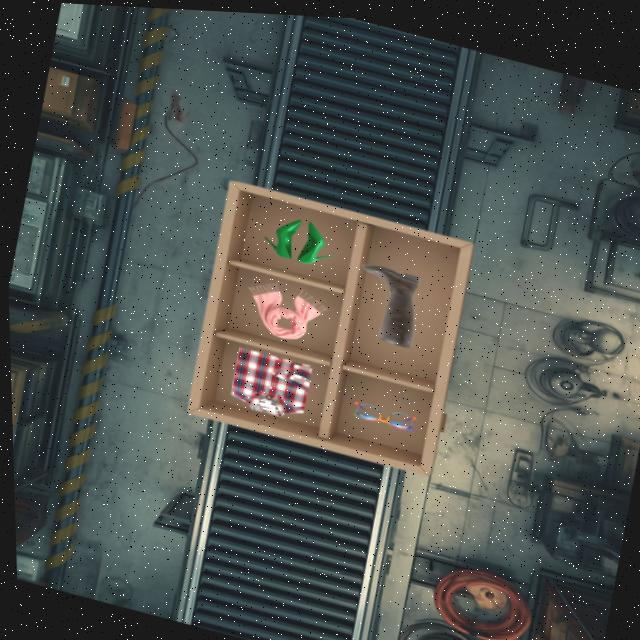boot: (363, 264, 420, 347)
heel: (264, 220, 301, 259), (298, 222, 330, 263)
scarf: (249, 284, 327, 339)
shirt: (231, 347, 311, 417)
sunglasses: (354, 402, 415, 430)
